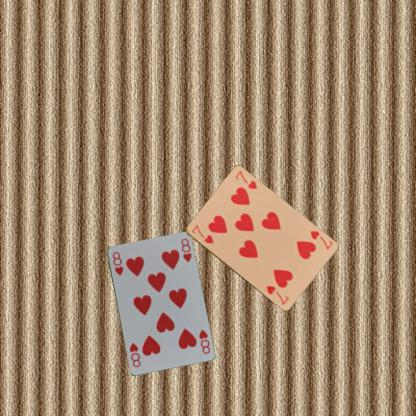7h: (307, 228, 334, 251), (189, 222, 214, 245)
8h: (196, 327, 211, 355), (110, 249, 124, 277)
